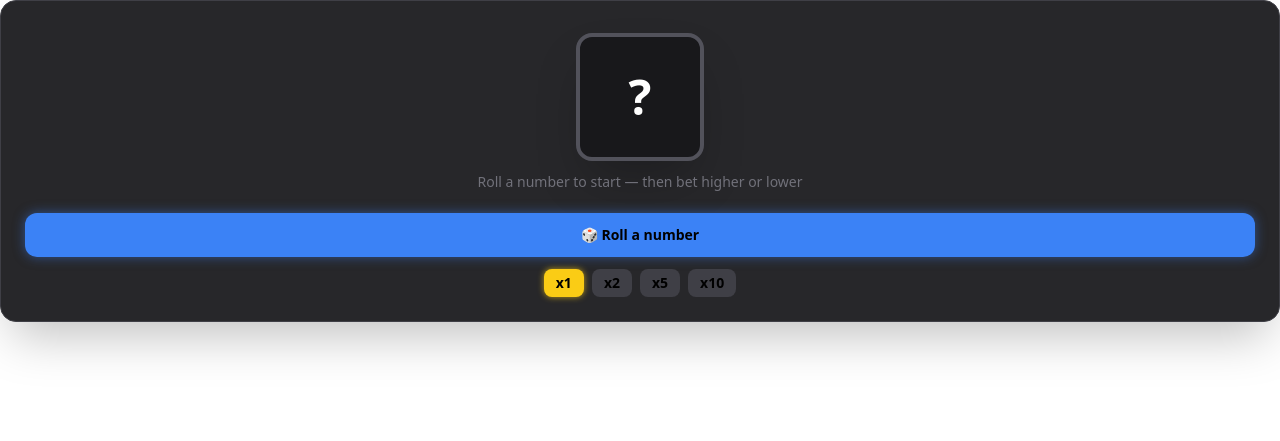
Scenario: HiLo guessing › shows live payout multipliers for both sides
The image size is (1280, 441).
Click the button "🎲 Roll a number". click: point(640, 235)
box: x1=25 y1=213 x2=1255 y2=257
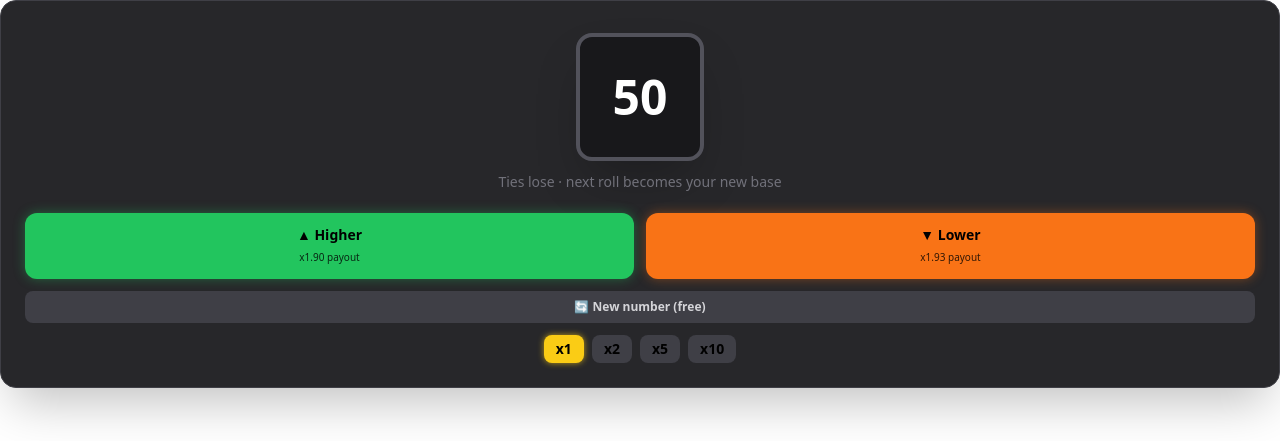
Now the text "x1.90 payout" is shown, box x1=299 y1=250 x2=360 y2=264
